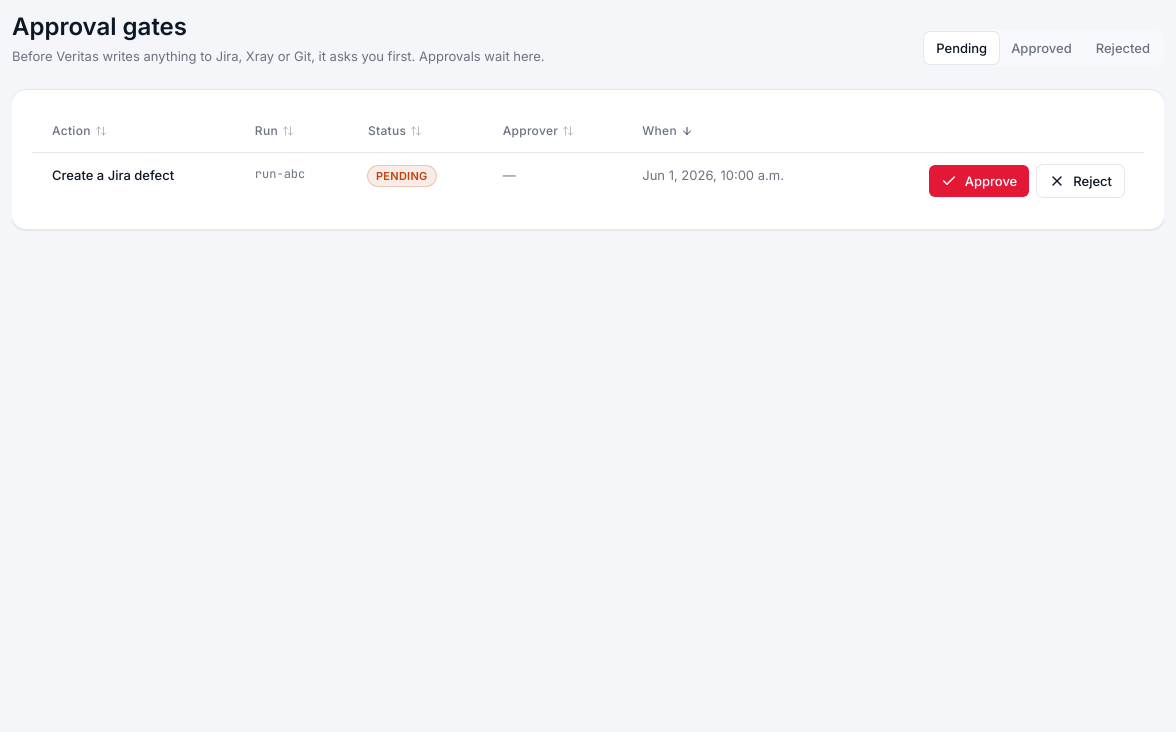
it: Approval gates › rejects a pending gate (POST /gates/:id/reject) and shows the success toast
Expected: the text "Create a Jira defect" is shown, [32,152,235,209]
Click the button "Reject" at (1081, 181), box [1037,165,1124,197]
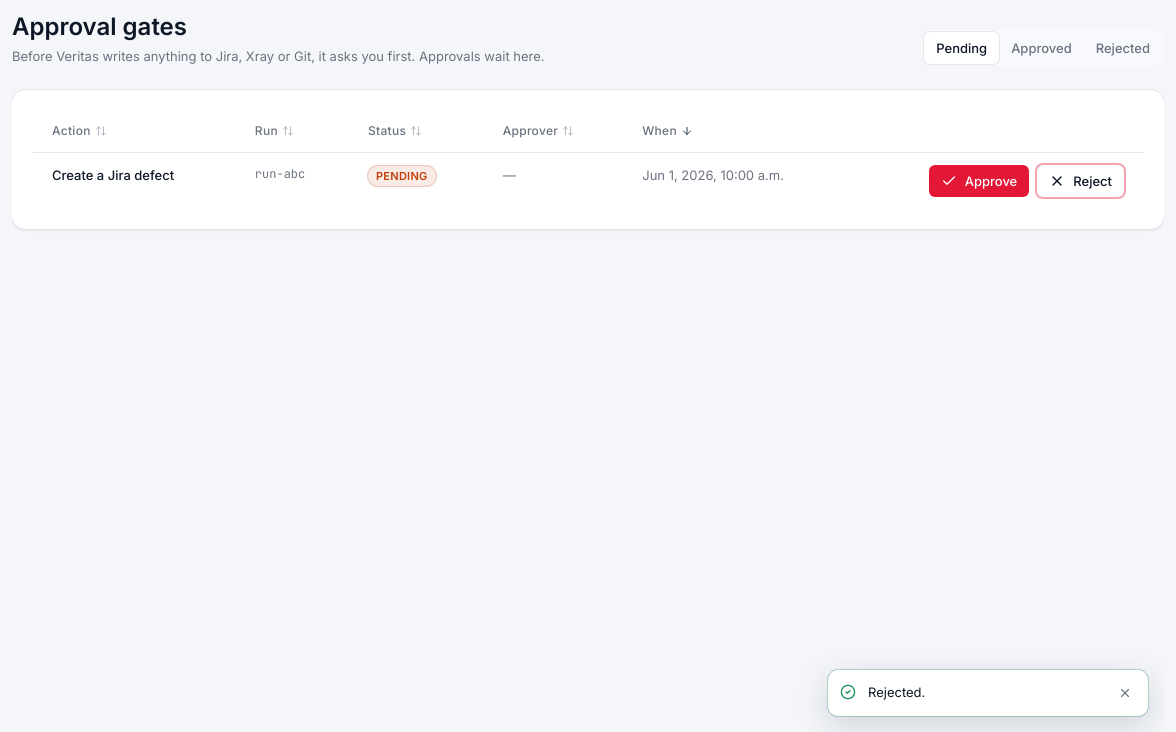
Expected: the text "Rejected." is shown, [868,684,925,700]
